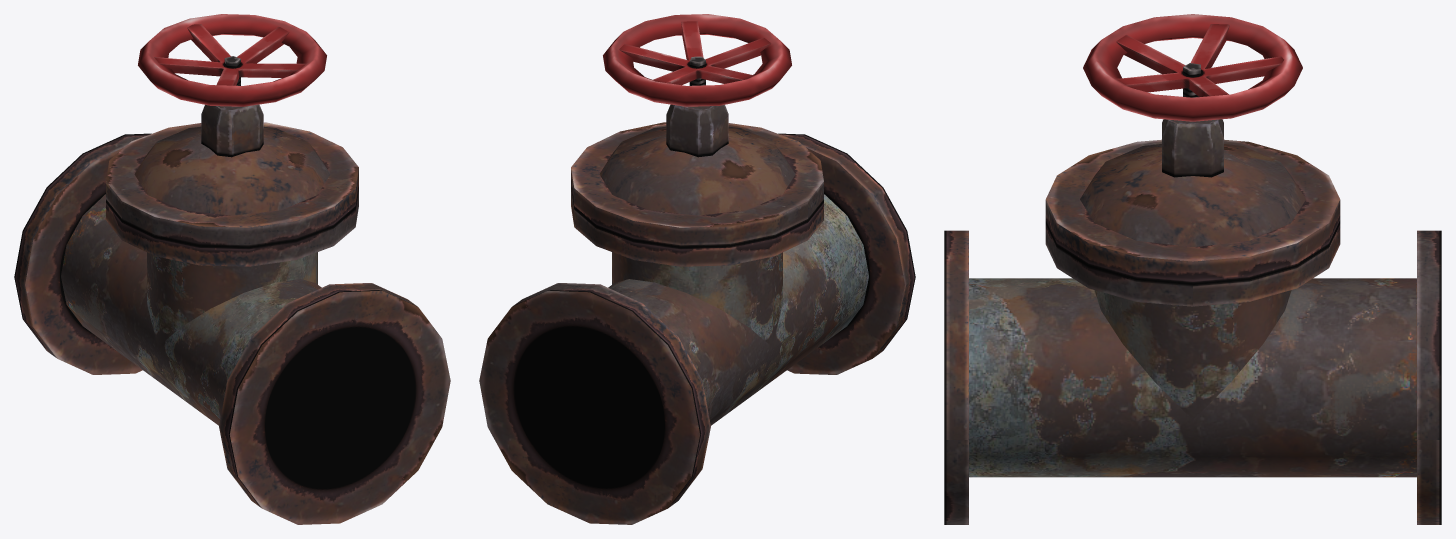
The model's file is pipe03_valve01.FBX.
The picture shows the model from 3 angles, left to right: view 1: azimuth 30°, elevation 25°; view 2: azimuth 150°, elevation 25°; view 3: azimuth 270°, elevation 25°; orthographic projection. The views are drawn at different scales.
Parts seen in each view (by area): view 1: pipe03_valve01, pipe03_valve01_wheel; view 2: pipe03_valve01, pipe03_valve01_wheel; view 3: pipe03_valve01, pipe03_valve01_wheel.
Boxes of the visible parts, x1,y1,x2,y2 form: pipe03_valve01: (14, 104, 450, 524); pipe03_valve01_wheel: (138, 14, 326, 106); pipe03_valve01: (479, 104, 915, 524); pipe03_valve01_wheel: (603, 14, 791, 106); pipe03_valve01: (944, 119, 1441, 524); pipe03_valve01_wheel: (1083, 14, 1302, 121).
Bounding box in the file's own units: 59.2 × 101 × 100.
